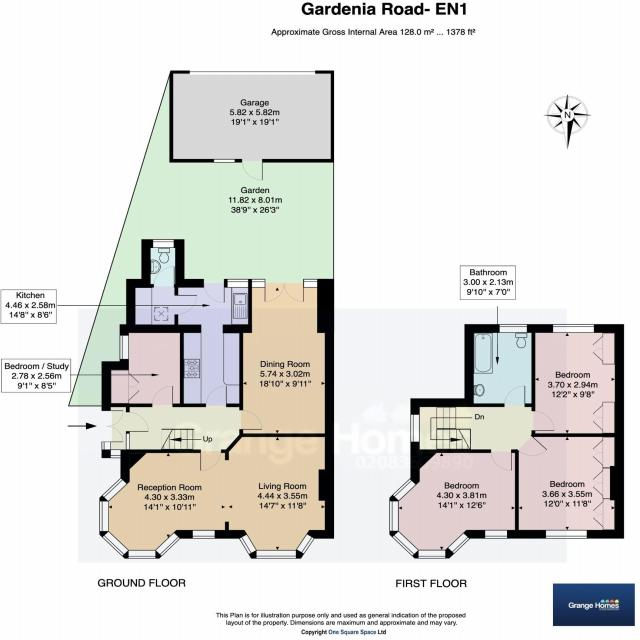DOOR: (515, 433, 549, 457), (202, 278, 226, 304), (153, 265, 176, 288), (531, 410, 555, 432), (174, 294, 198, 316), (503, 385, 526, 407), (205, 385, 228, 407), (151, 385, 174, 407), (239, 409, 263, 430), (490, 449, 512, 471), (200, 449, 222, 471), (126, 411, 149, 432)
DOUBLE DOOR: (263, 278, 308, 305)
ROOM: (99, 433, 334, 559), (389, 449, 519, 559), (514, 433, 625, 539), (531, 324, 624, 437)
WINDOW: (99, 477, 182, 559), (238, 533, 315, 559), (392, 530, 419, 557), (392, 478, 417, 501), (447, 532, 471, 555), (545, 529, 588, 539), (552, 324, 595, 334), (389, 501, 399, 531), (410, 414, 420, 443), (418, 549, 446, 559), (499, 324, 528, 333), (119, 335, 129, 360), (226, 278, 249, 288), (152, 239, 175, 249), (484, 530, 508, 539), (192, 530, 216, 539), (303, 279, 318, 288), (251, 279, 265, 288)
